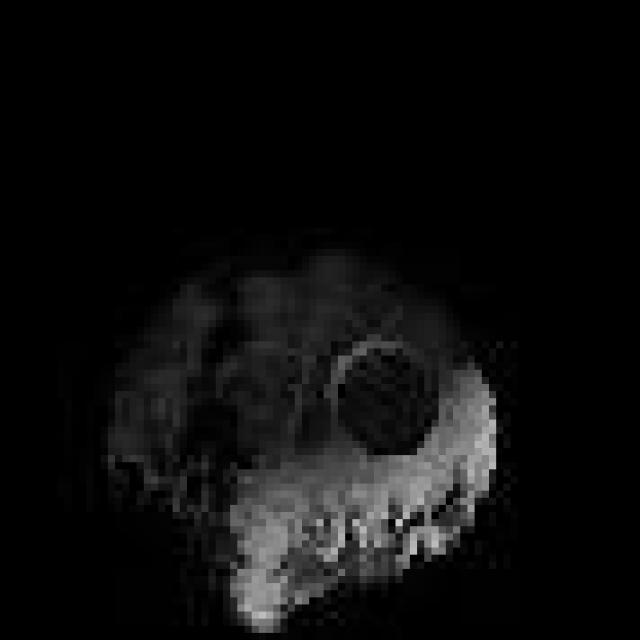Death Star: (86, 227, 511, 633)
